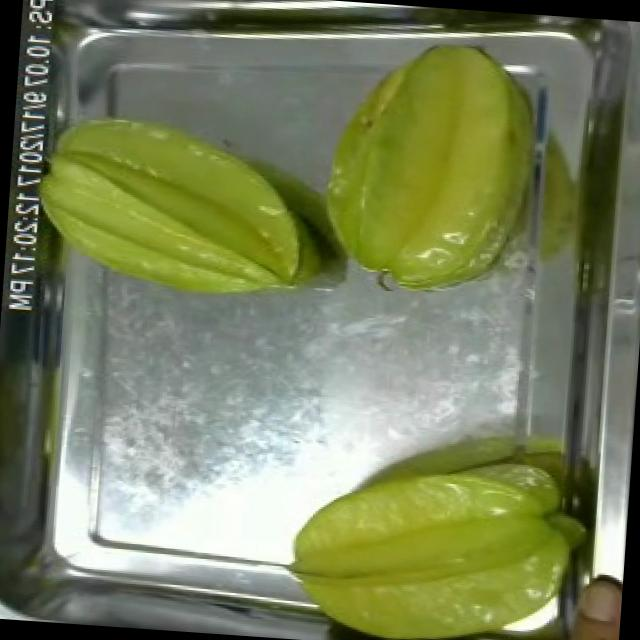fruit: (302, 23, 560, 312), (275, 432, 594, 640), (21, 98, 324, 312)
